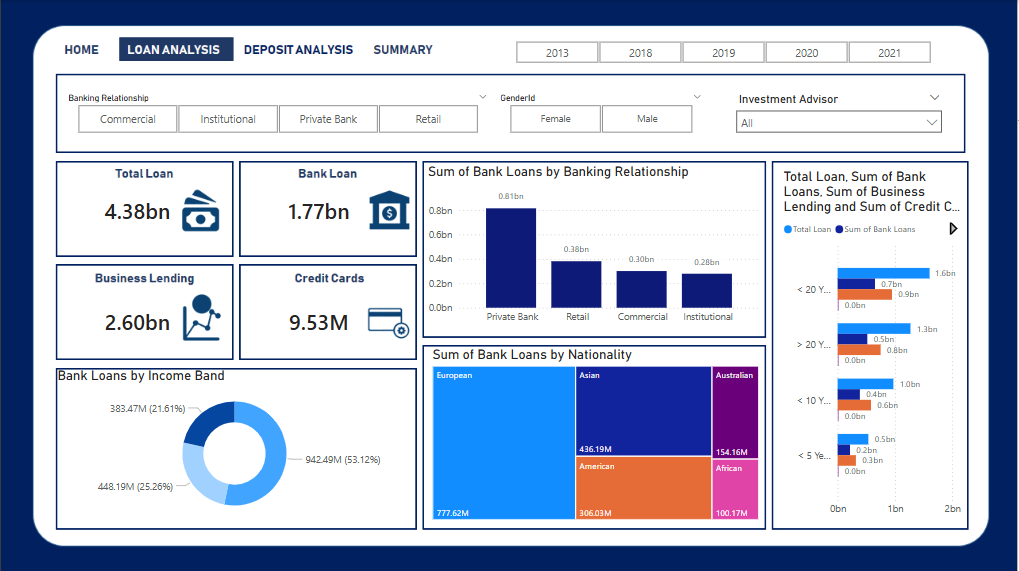

This screenshot's page, from the dashboard's own definition file:
{"tool":"powerbi","page":{"name":"Loan Analysis","canvas":[1280,720],"ordinal":1},"visuals":[{"type":"slicer","fields":{"Values":["banking_case customer.Year of Joining"]},"box":[623.8,46,571.4,38.1],"z":0},{"type":"actionButton","box":[66.7,46,69.8,38.1],"z":1000},{"type":"actionButton","box":[319.4,43.5,139.8,39.7],"z":2000},{"type":"actionButton","box":[458.7,46,95.2,38.1],"z":3000},{"type":"donutChart","title":"Bank Loans by Income Band","fields":{"Category":["banking_case customer.Income Band"],"Y":["Sum(banking_case customer.Bank Loans)"]},"box":[66.6,463.3,455.8,196.8],"z":4000},{"type":"slicer","fields":{"Values":["banking_case customer.BRId"]},"box":[71.2,112.1,552.7,62.1],"z":5000},{"type":"slicer","fields":{"Values":["banking_case customer.GenderId"]},"box":[616.3,112.1,278.6,62.1],"z":6000},{"type":"slicer","fields":{"Values":["banking_case customer.IAId"]},"box":[916.1,112.1,278.6,63.6],"z":7000},{"type":"card","fields":{"Values":["banking_case customer.Total Loan"]},"box":[90.9,221.1,162,90.9],"z":8000},{"type":"card","fields":{"Values":["Sum(banking_case customer.Bank Loans)"]},"box":[319.5,221.1,162,90.9],"z":9000},{"type":"card","fields":{"Values":["Sum(banking_case customer.Business Lending)"]},"box":[90.9,360.4,162,90.9],"z":10000},{"type":"card","fields":{"Values":["Sum(banking_case customer.Credit Card Balance)"]},"box":[319.5,360.4,162,90.9],"z":11000},{"type":"lineClusteredColumnComboChart","fields":{"Category":["banking_case customer.Banking Relationship"],"Y":["Sum(banking_case customer.Bank Loans)"]},"box":[532.9,206,429,211.7],"z":12000},{"type":"treemap","fields":{"Group":["banking_case customer.Nationality"],"Values":["Sum(banking_case customer.Bank Loans)"]},"box":[538.6,436.5,421.4,223],"z":13000},{"type":"clusteredBarChart","fields":{"Category":["banking_case customer.Engagement Timeframe"],"Y":["banking_case customer.Total Loan","Sum(banking_case customer.Bank Loans)","Sum(banking_case customer.Business Lending)","Sum(banking_case customer.Credit Card Balance)"]},"box":[980.8,211.7,238.1,447.9],"z":14000}]}

Visuals, with their boxes in screenshot pixels (x1, y1, x2, y2), scaled from the page's 1280x720 canvas onto the 1019x571 screenshot:
slicer - banking_case customer.Year of Joining: {"left": 497, "top": 36, "right": 951, "bottom": 67}
actionButton: {"left": 53, "top": 36, "right": 109, "bottom": 67}
actionButton: {"left": 254, "top": 34, "right": 366, "bottom": 66}
actionButton: {"left": 365, "top": 36, "right": 441, "bottom": 67}
"Bank Loans by Income Band" donutChart: {"left": 53, "top": 367, "right": 416, "bottom": 523}
slicer - banking_case customer.BRId: {"left": 57, "top": 89, "right": 497, "bottom": 138}
slicer - banking_case customer.GenderId: {"left": 491, "top": 89, "right": 712, "bottom": 138}
slicer - banking_case customer.IAId: {"left": 729, "top": 89, "right": 951, "bottom": 139}
card - banking_case customer.Total Loan: {"left": 72, "top": 175, "right": 201, "bottom": 247}
card - Sum(banking_case customer.Bank Loans): {"left": 254, "top": 175, "right": 383, "bottom": 247}
card - Sum(banking_case customer.Business Lending): {"left": 72, "top": 286, "right": 201, "bottom": 358}
card - Sum(banking_case customer.Credit Card Balance): {"left": 254, "top": 286, "right": 383, "bottom": 358}
lineClusteredColumnComboChart - banking_case customer.Banking Relationship x Sum(banking_case customer.Bank Loans): {"left": 424, "top": 163, "right": 766, "bottom": 331}
treemap - banking_case customer.Nationality x Sum(banking_case customer.Bank Loans): {"left": 429, "top": 346, "right": 764, "bottom": 523}
clusteredBarChart - banking_case customer.Engagement Timeframe x banking_case customer.Total Loan: {"left": 781, "top": 168, "right": 970, "bottom": 523}
